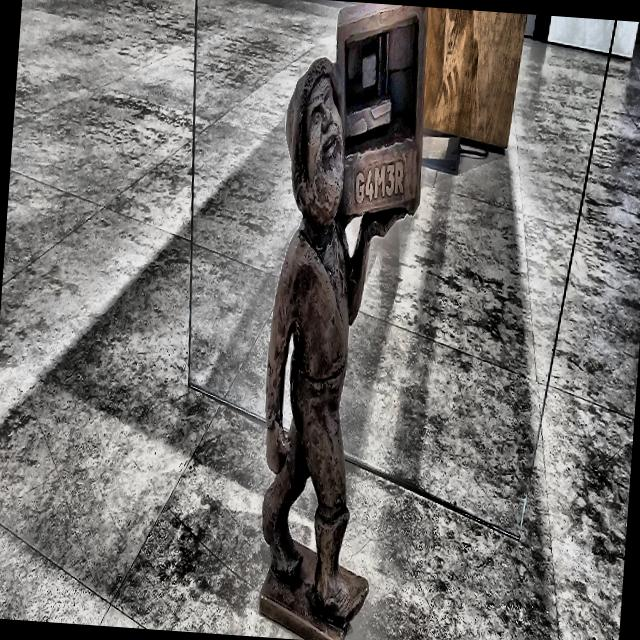GigaHercjusz: (259, 2, 427, 640)
